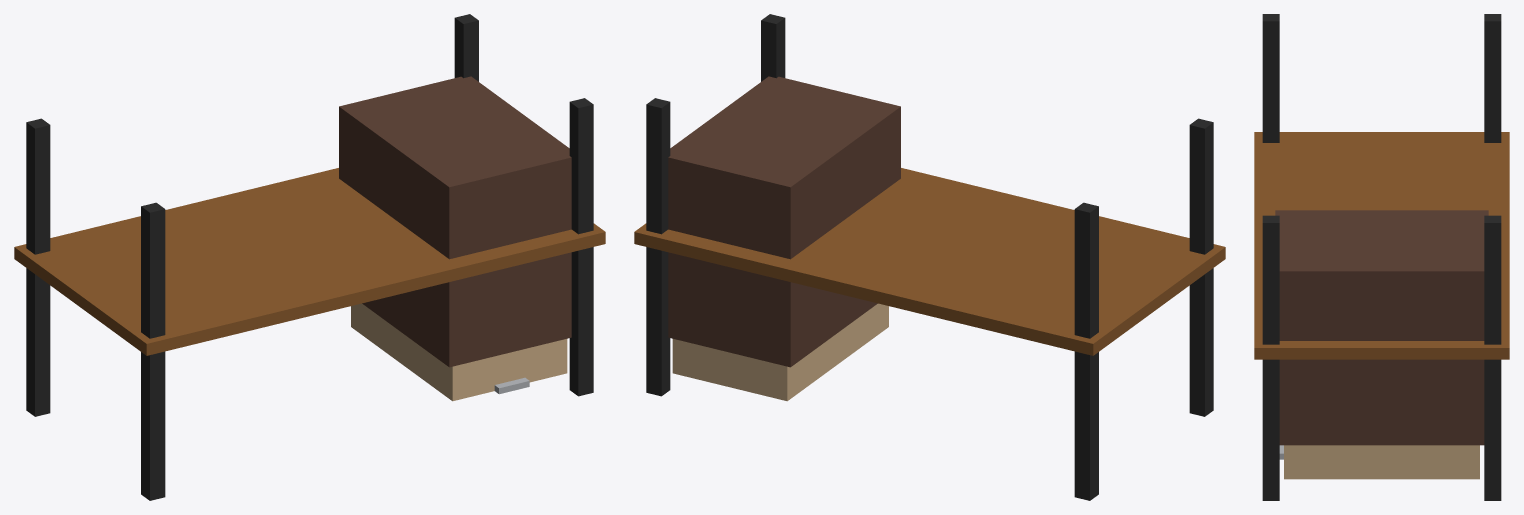
Rendered from test_desk_opt.glb.
3 renders of one model, left to right at view 1: azimuth 30°, elevation 25°; view 2: azimuth 150°, elevation 25°; view 3: azimuth 270°, elevation 25°, orthographic. The views are drawn at different scales.
Parts seen in each view (by area): view 1: drawer_body_1, cabinet, leg_1; view 2: drawer_body_1, cabinet, leg_1; view 3: cabinet, drawer_body_1, leg_1.
Boxes of the visible parts, x1=… form: drawer_body_1: x1=14, y1=168, x2=605, y2=401; cabinet: x1=339, y1=76, x2=571, y2=367; leg_1: x1=26, y1=14, x2=593, y2=500; drawer_body_1: x1=634, y1=168, x2=1225, y2=401; cabinet: x1=668, y1=76, x2=900, y2=367; leg_1: x1=646, y1=14, x2=1213, y2=500; cabinet: x1=1275, y1=210, x2=1488, y2=445; drawer_body_1: x1=1254, y1=132, x2=1509, y2=479; leg_1: x1=1262, y1=14, x2=1501, y2=500.
Bounding box in the file's own units: 1.2 × 0.72 × 0.5999.
4 materials, 4 textured.
